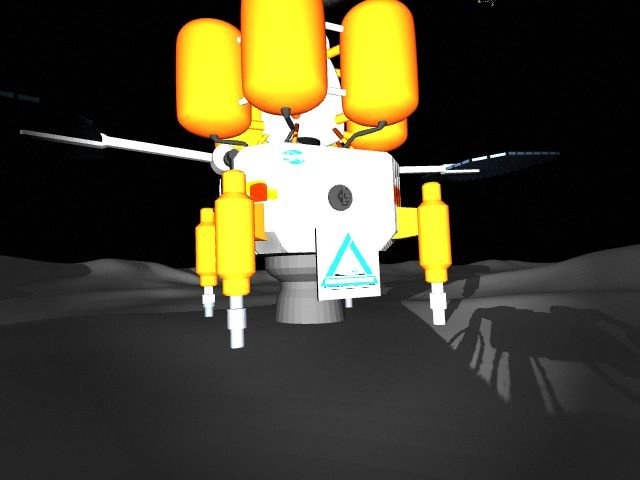basemarker: (318, 233, 378, 291)
